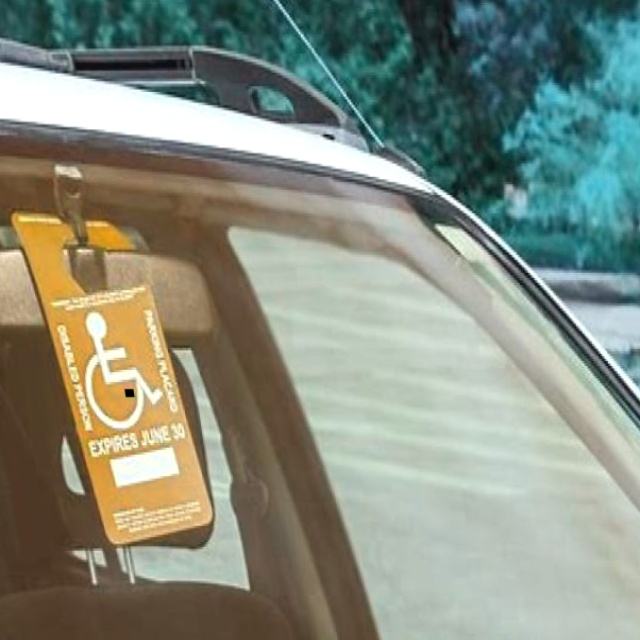ISA: (72, 313, 173, 431)
